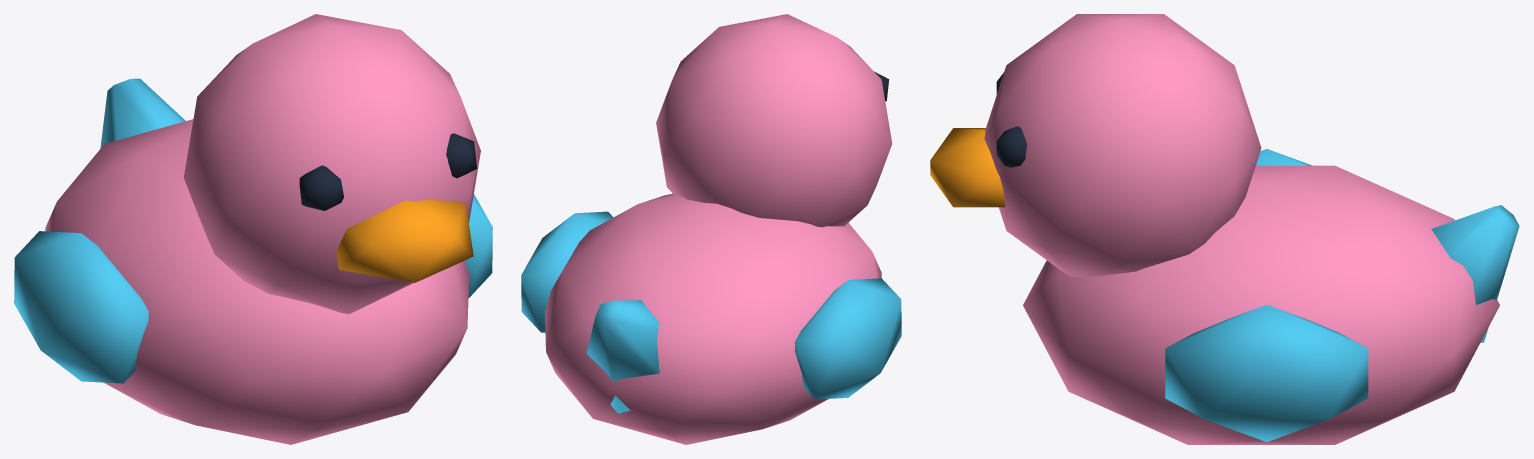
File: w2_03_duck.glb
3 views of the same model, side by side, from view 1: azimuth 30°, elevation 25°; view 2: azimuth 150°, elevation 25°; view 3: azimuth 270°, elevation 25° (orthographic). The views are drawn at different scales.
Visible parts, largest first — view 1: W2_03_Duck; view 2: W2_03_Duck; view 3: W2_03_Duck.
Boxes of the visible parts, box(x1,y1,x2,y2) form: W2_03_Duck: box(14, 14, 492, 444); W2_03_Duck: box(521, 14, 901, 444); W2_03_Duck: box(930, 14, 1519, 444).
Bounding box in the file's own units: 0.841 × 0.83 × 1.09.
1 material, 1 textured.
